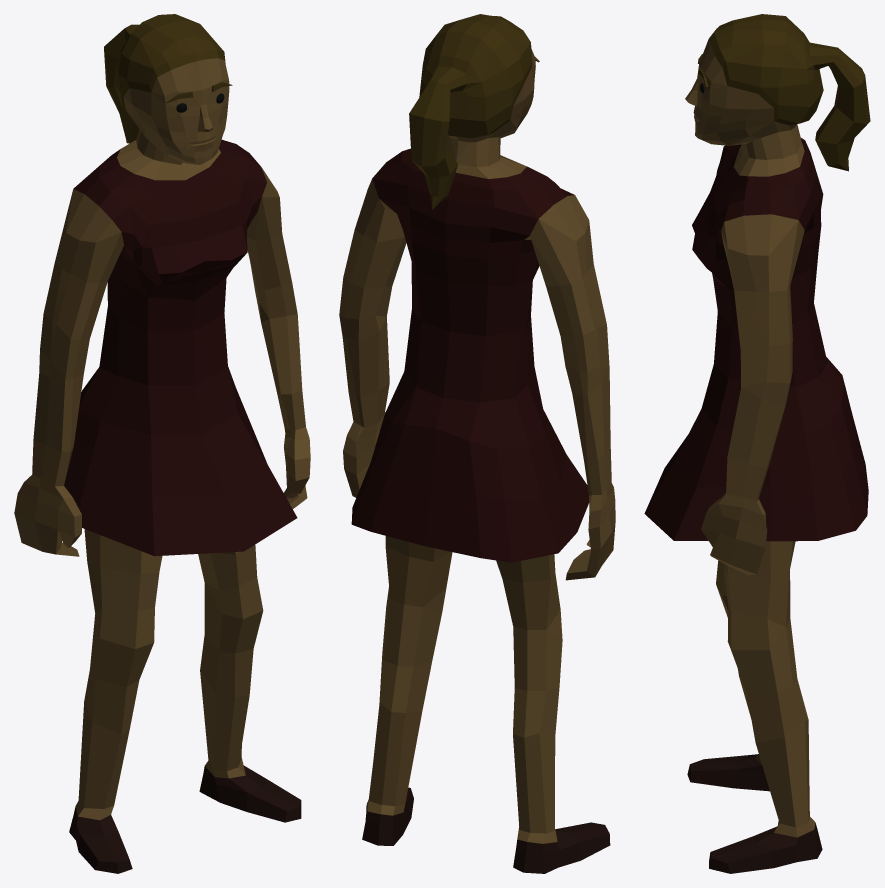
3 views of the same model, side by side, from view 1: azimuth 30°, elevation 25°; view 2: azimuth 150°, elevation 25°; view 3: azimuth 270°, elevation 25° (orthographic). The views are drawn at different scales.
Visible parts, largest first — view 1: Female_static; view 2: Female_static; view 3: Female_static.
Boxes of the visible parts, x1,y1,x2,y2 form: Female_static: (14, 14, 310, 873); Female_static: (339, 14, 615, 873); Female_static: (644, 14, 870, 873).
Size of the model in its own units: 1.62 by 4.66 by 1.19.
